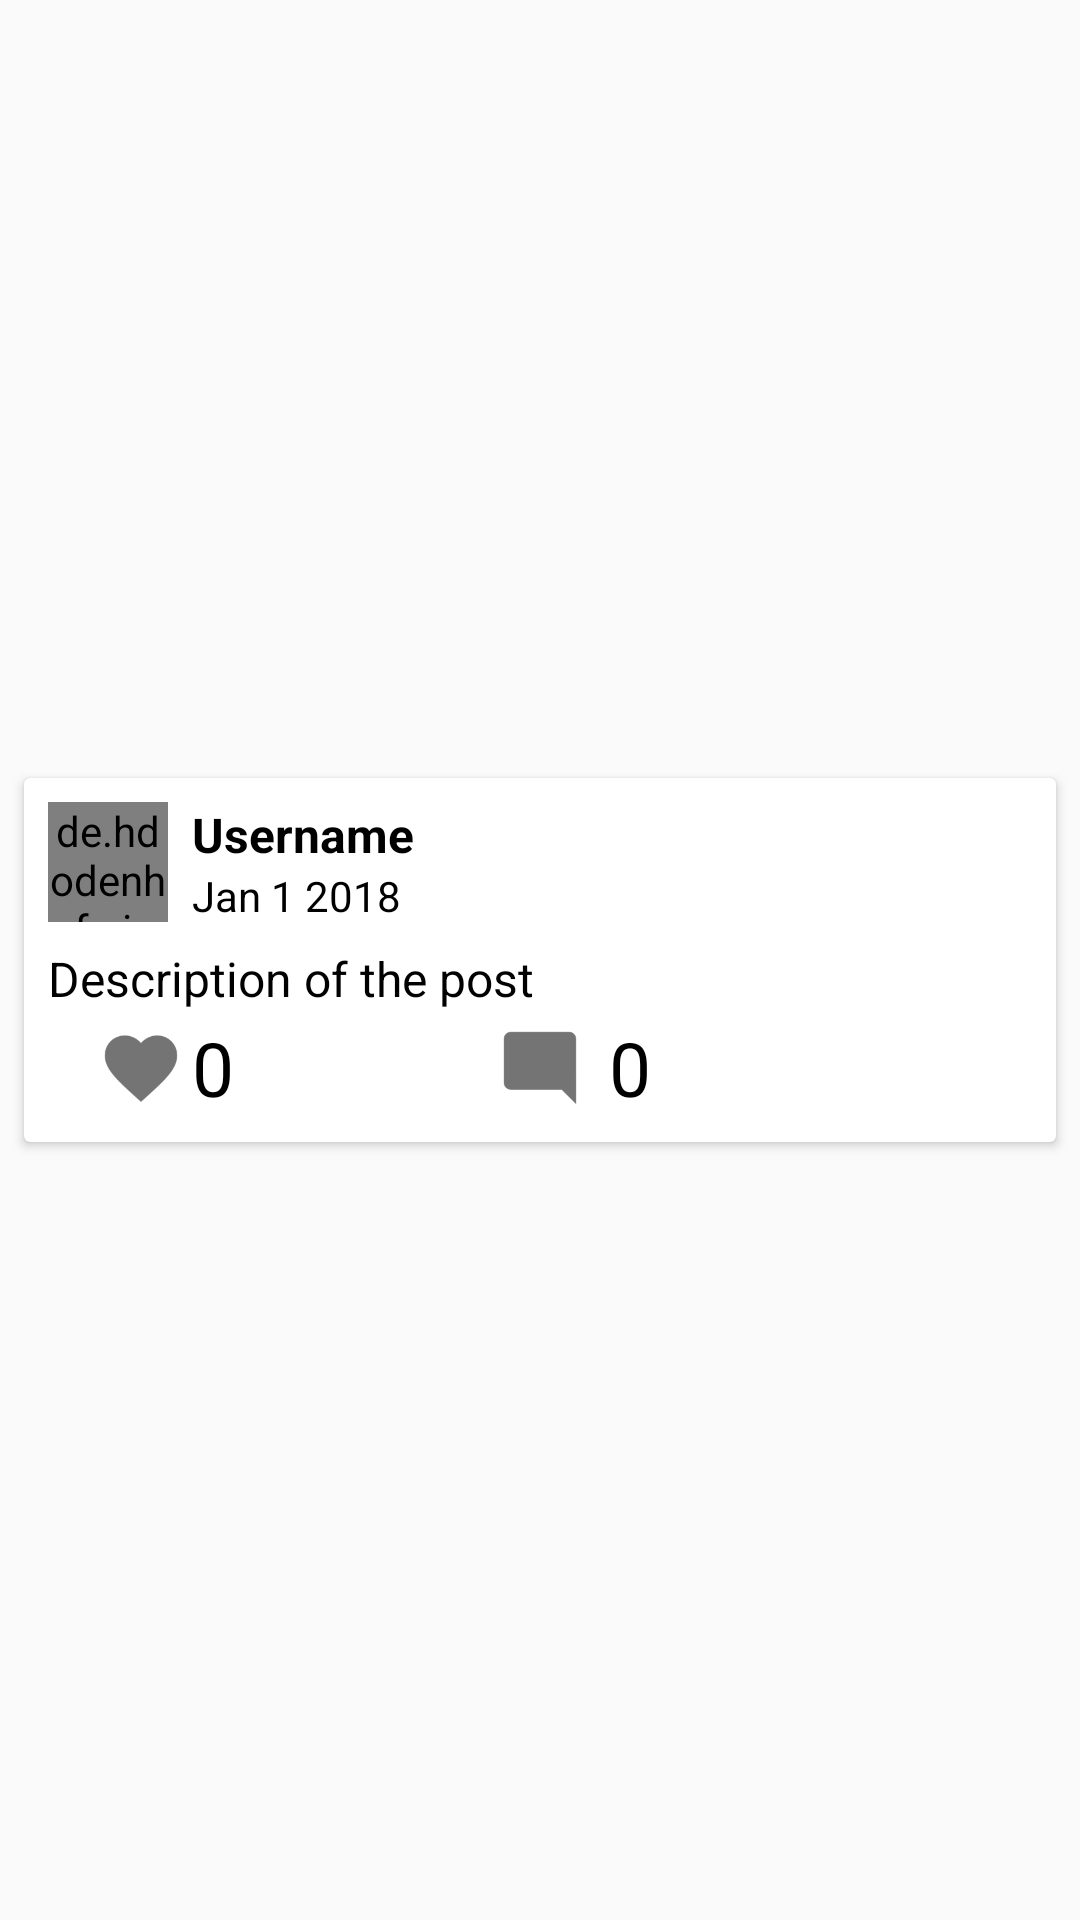

Icons on this 1080w x 1920h Android screen, each with its box as (x1, y1, x2, y2):
like: (105, 1035, 177, 1102)
